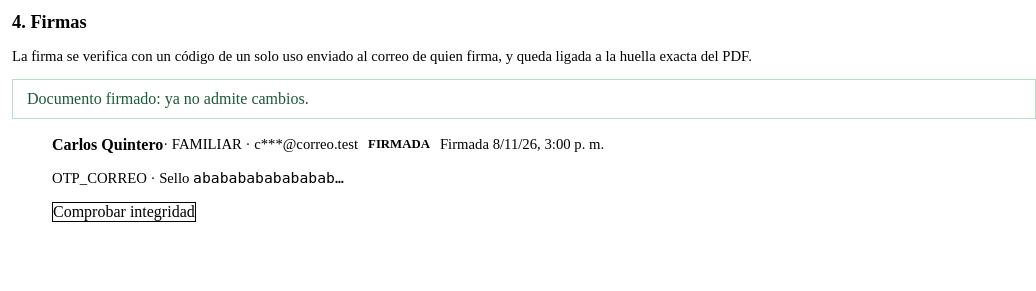
Test: FirmasSection › una firma sellada permite comprobar la integridad: válida
The image size is (1036, 291).
Expected: the text "Documento firmado: ya no admite cambios." is shown, [12,79,1035,119]
Click the button "Comprobar integridad" at [124, 212], box [52,202,196,222]
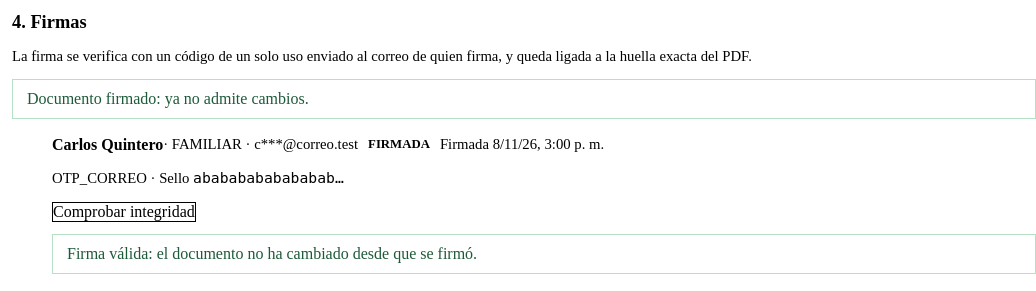
Expected: the text "Firma válida: el documento no ha cambiado desde que se firmó." is shown, [52,234,1035,274]
